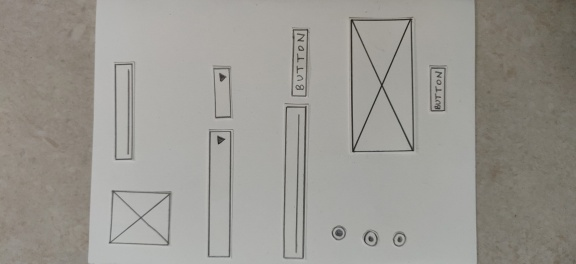button: (290, 25, 311, 99), (427, 64, 448, 114)
dropdown: (204, 127, 234, 260), (211, 62, 236, 121)
img: (346, 13, 418, 156), (108, 187, 174, 249)
radio: (361, 227, 380, 249), (330, 223, 347, 242), (392, 229, 408, 249)
text: (281, 103, 309, 260), (112, 59, 137, 163)
